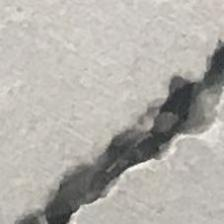Crack: (0, 38, 224, 224)
